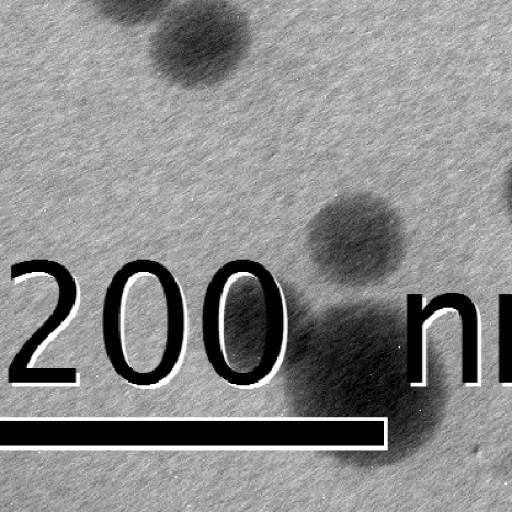Nanoparticles: (285, 298, 451, 471), (298, 188, 404, 291), (143, 0, 258, 91), (210, 272, 313, 372), (95, 0, 171, 30)
